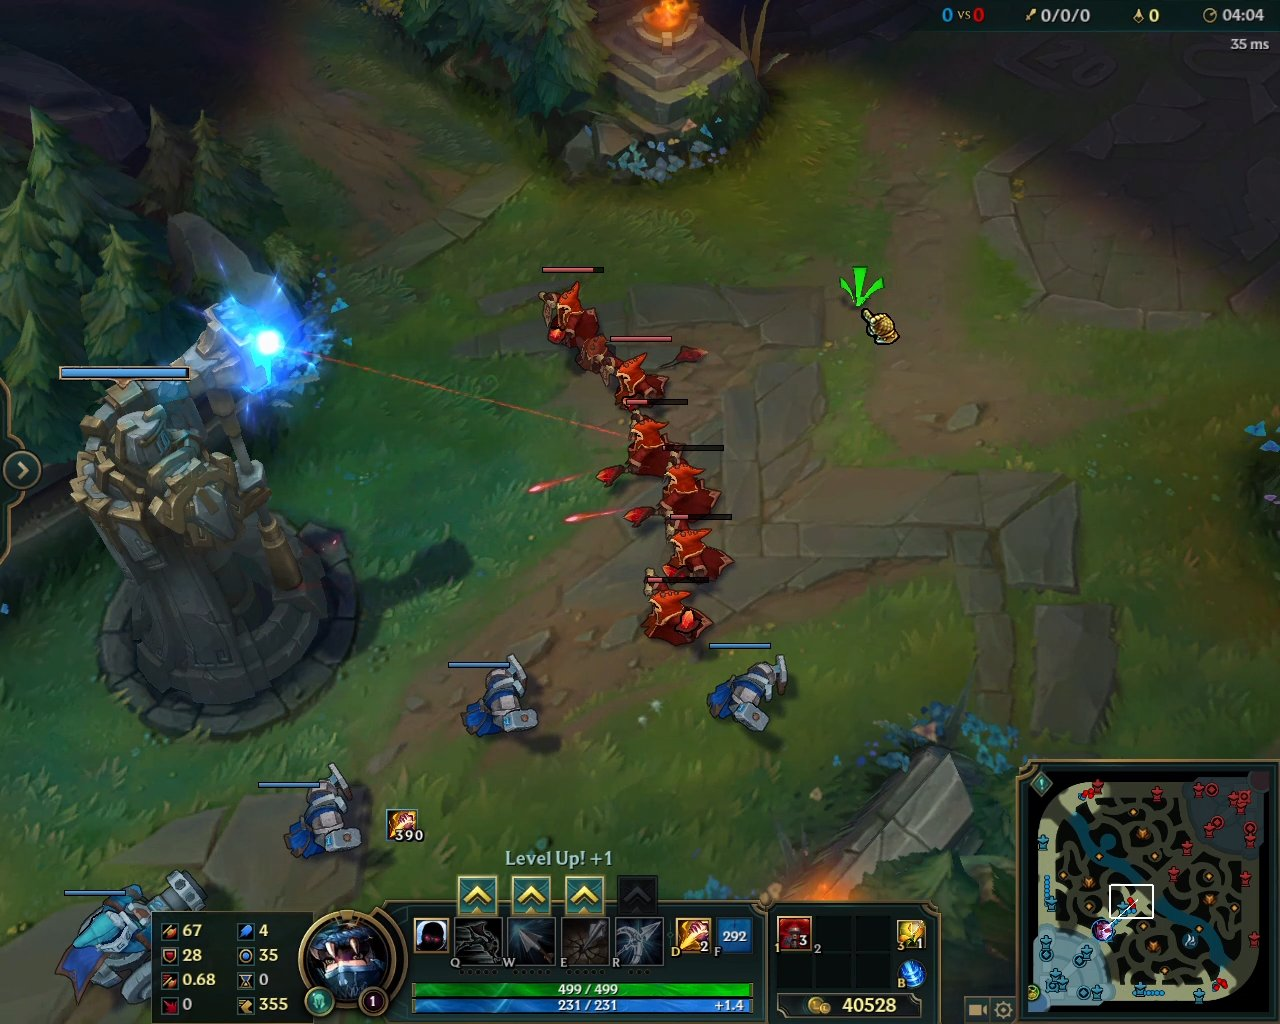EnemyMinion: (622, 444, 725, 531), (598, 398, 686, 488), (639, 567, 717, 650), (595, 338, 675, 412), (536, 266, 605, 346), (660, 513, 734, 581)
